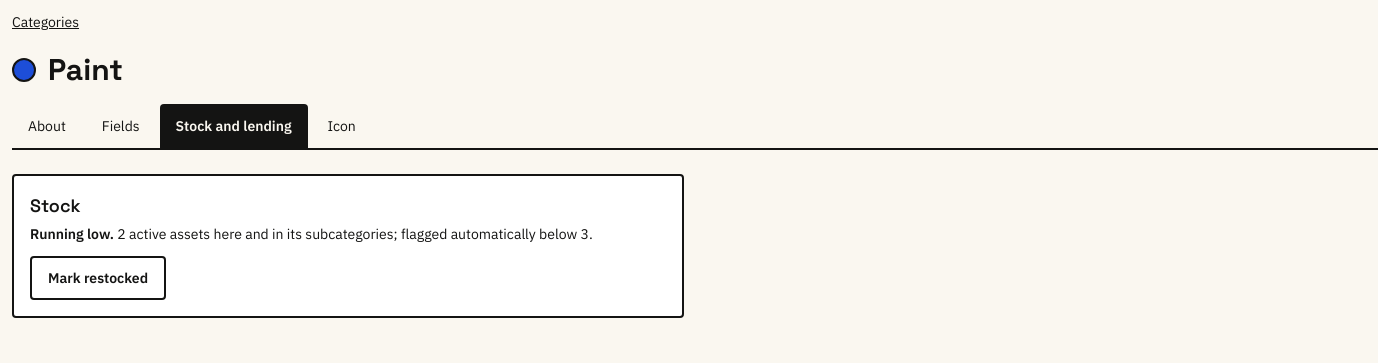
Test: CategoryPage › shows stock and lets people with stock.record flag it by hand
Check: the element "Stock" shows "Running low.", box [30,225,114,243]
Check: the element "Stock" shows "2 active assets here and in its subcategories; flagged automatically below 3.", box [117,225,593,243]
Click the button "Mark restocked".
click(98, 278)  # box [30,256,166,300]
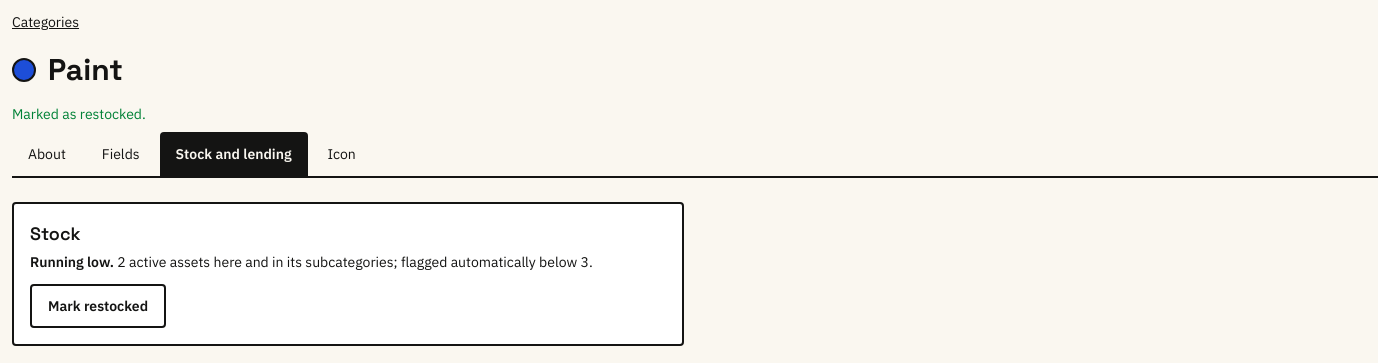
Check: the text "Marked as restocked." is shown, box [12,105,146,123]
